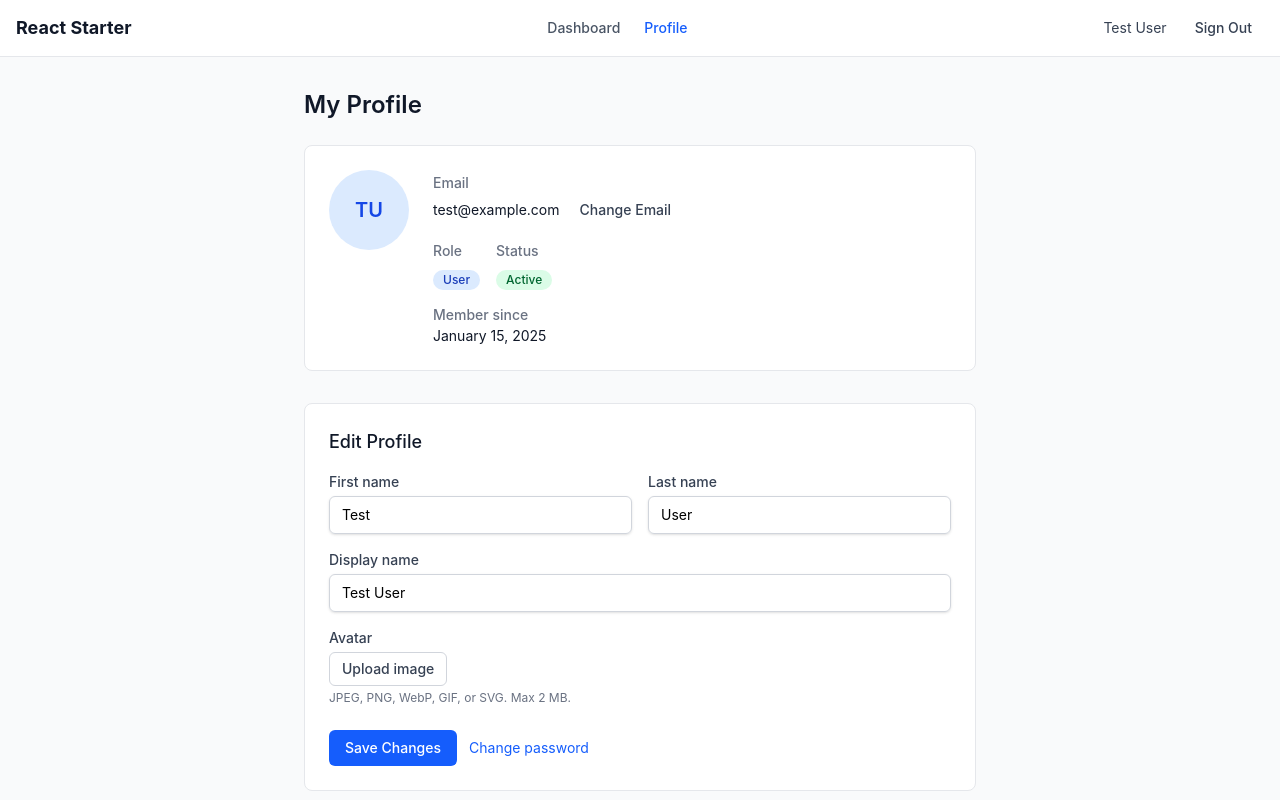
Test: ProfilePage › submits change email form and shows confirmation
The image size is (1280, 800).
Click the button "Change Email" at (625, 210), box x1=568 y1=194 x2=683 y2=226
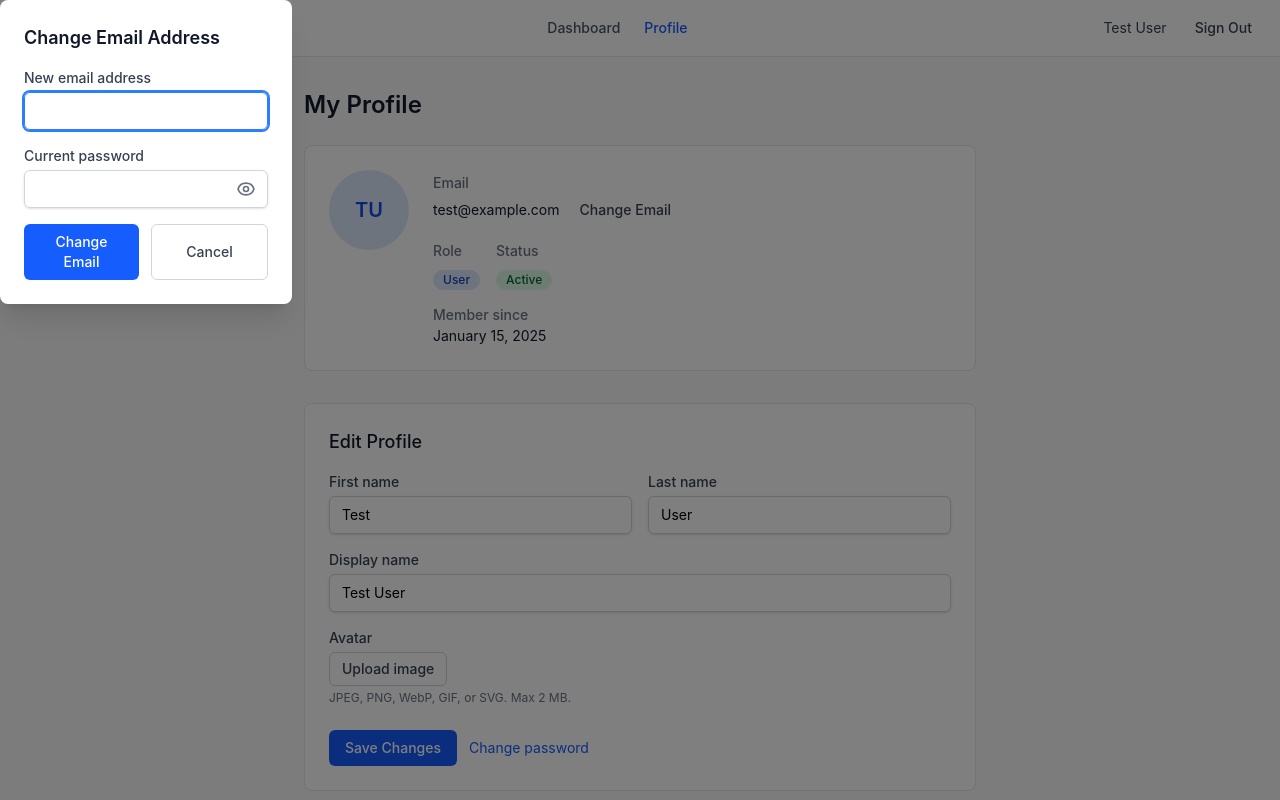
Check: the field labelled "New email address" is shown
Type "new@example.com" into the field labelled "New email address" at (146, 111), box x1=24 y1=92 x2=268 y2=130
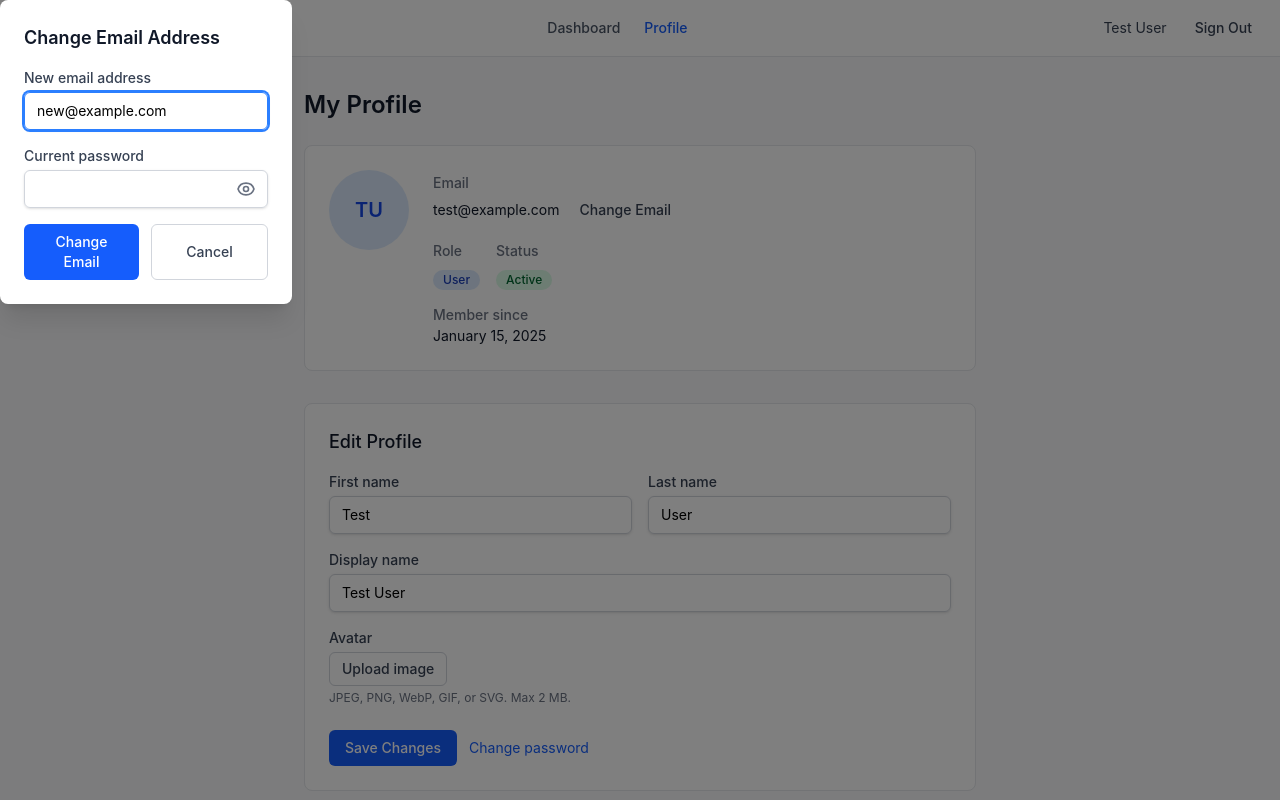
Type "password123" into the password field labelled "Current password" at (146, 189), box x1=24 y1=170 x2=268 y2=208
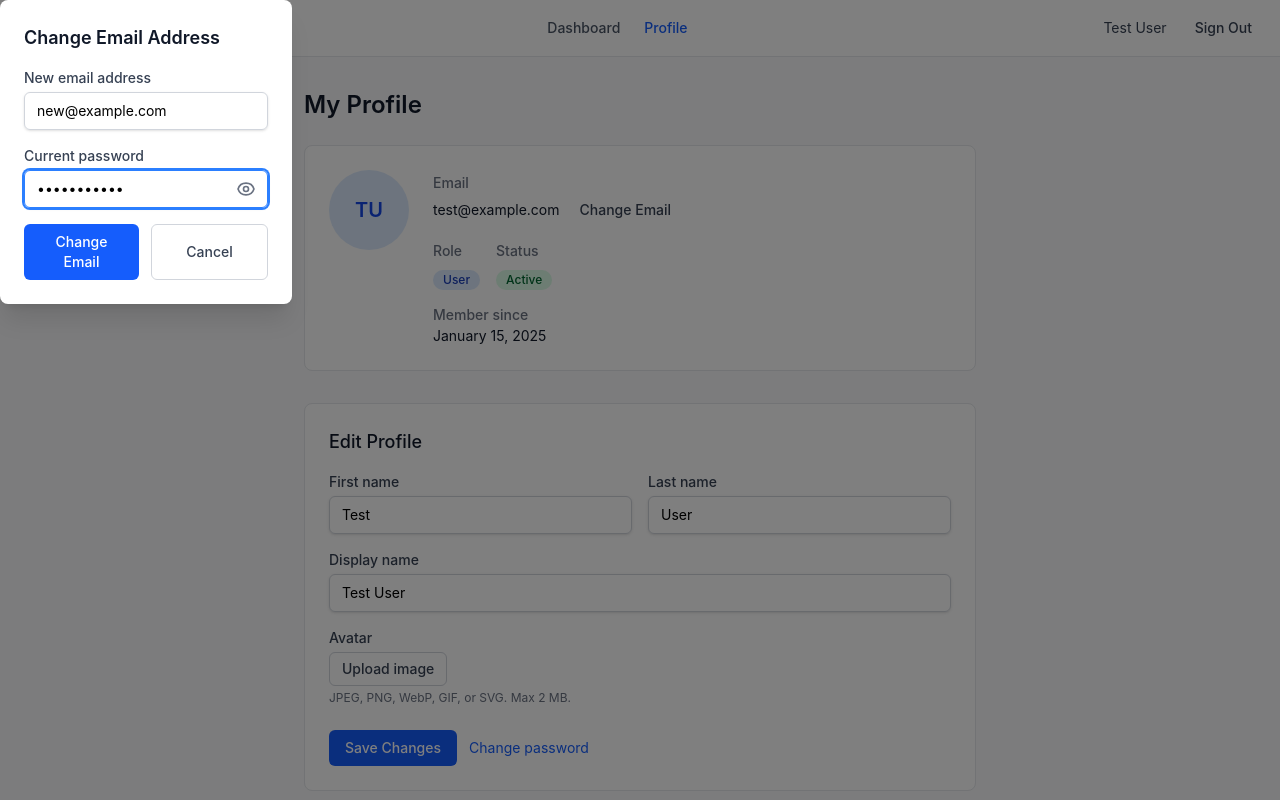
# Find the submit button inside the dialog (not the "Change Email" nav button)
Click the button "Change Email" at (82, 252), box x1=24 y1=224 x2=139 y2=280
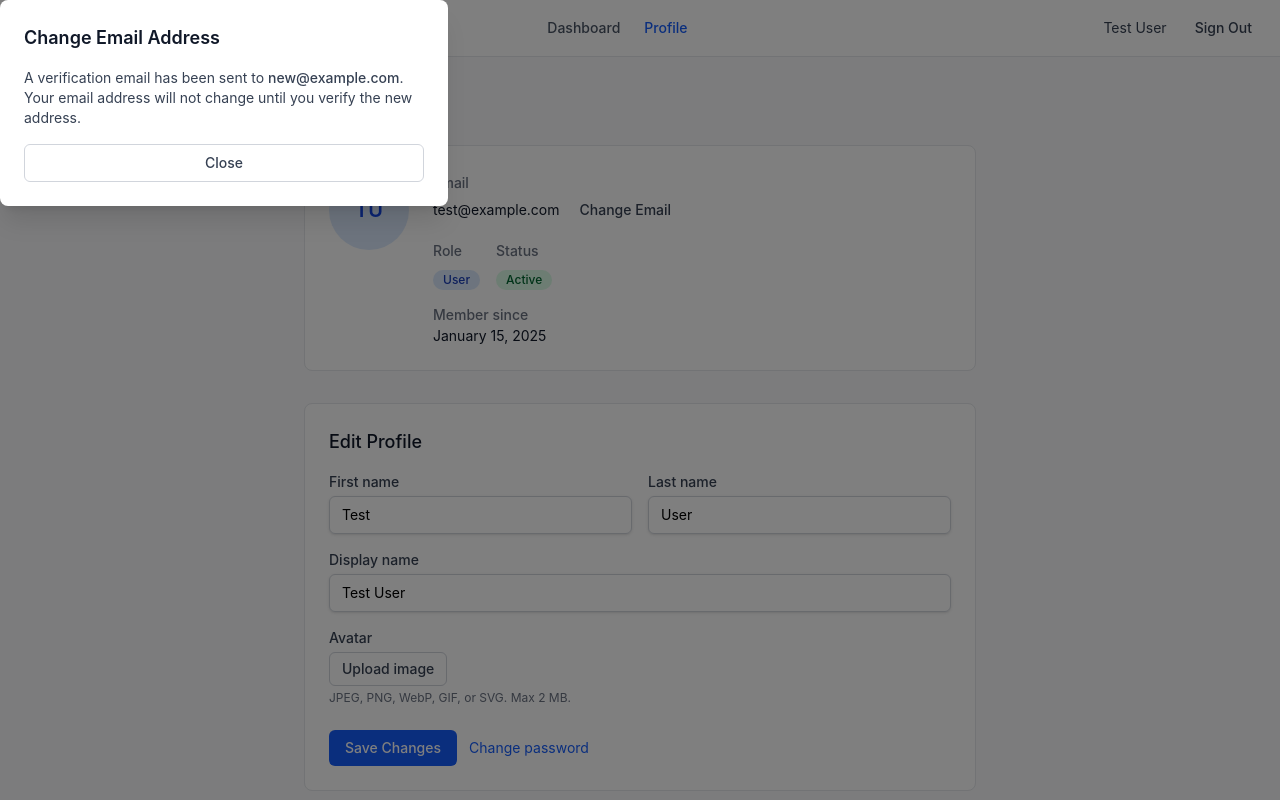
Check: the text "verification email has been sent" is shown, box x1=24 y1=69 x2=264 y2=86
